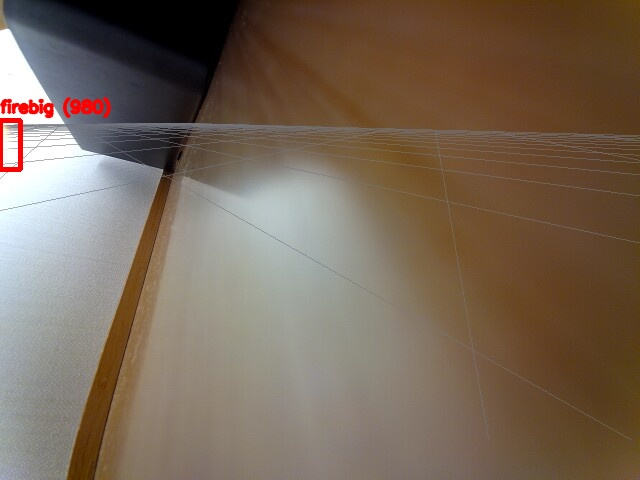firebig: (0, 120, 20, 169)
